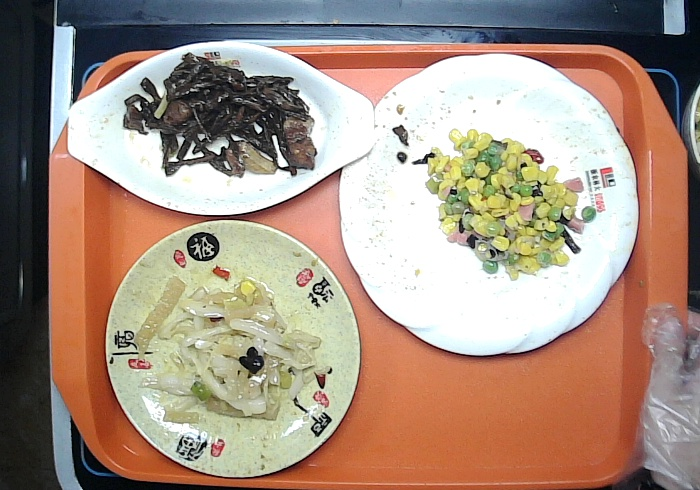NLDX-Bai_Zhe_Yuan_Pan: (338, 50, 638, 360)
NLDX-Fu_Zi_Yuan_Pan: (103, 217, 363, 479)
NLDX-Yu_Pan: (66, 36, 379, 217)
